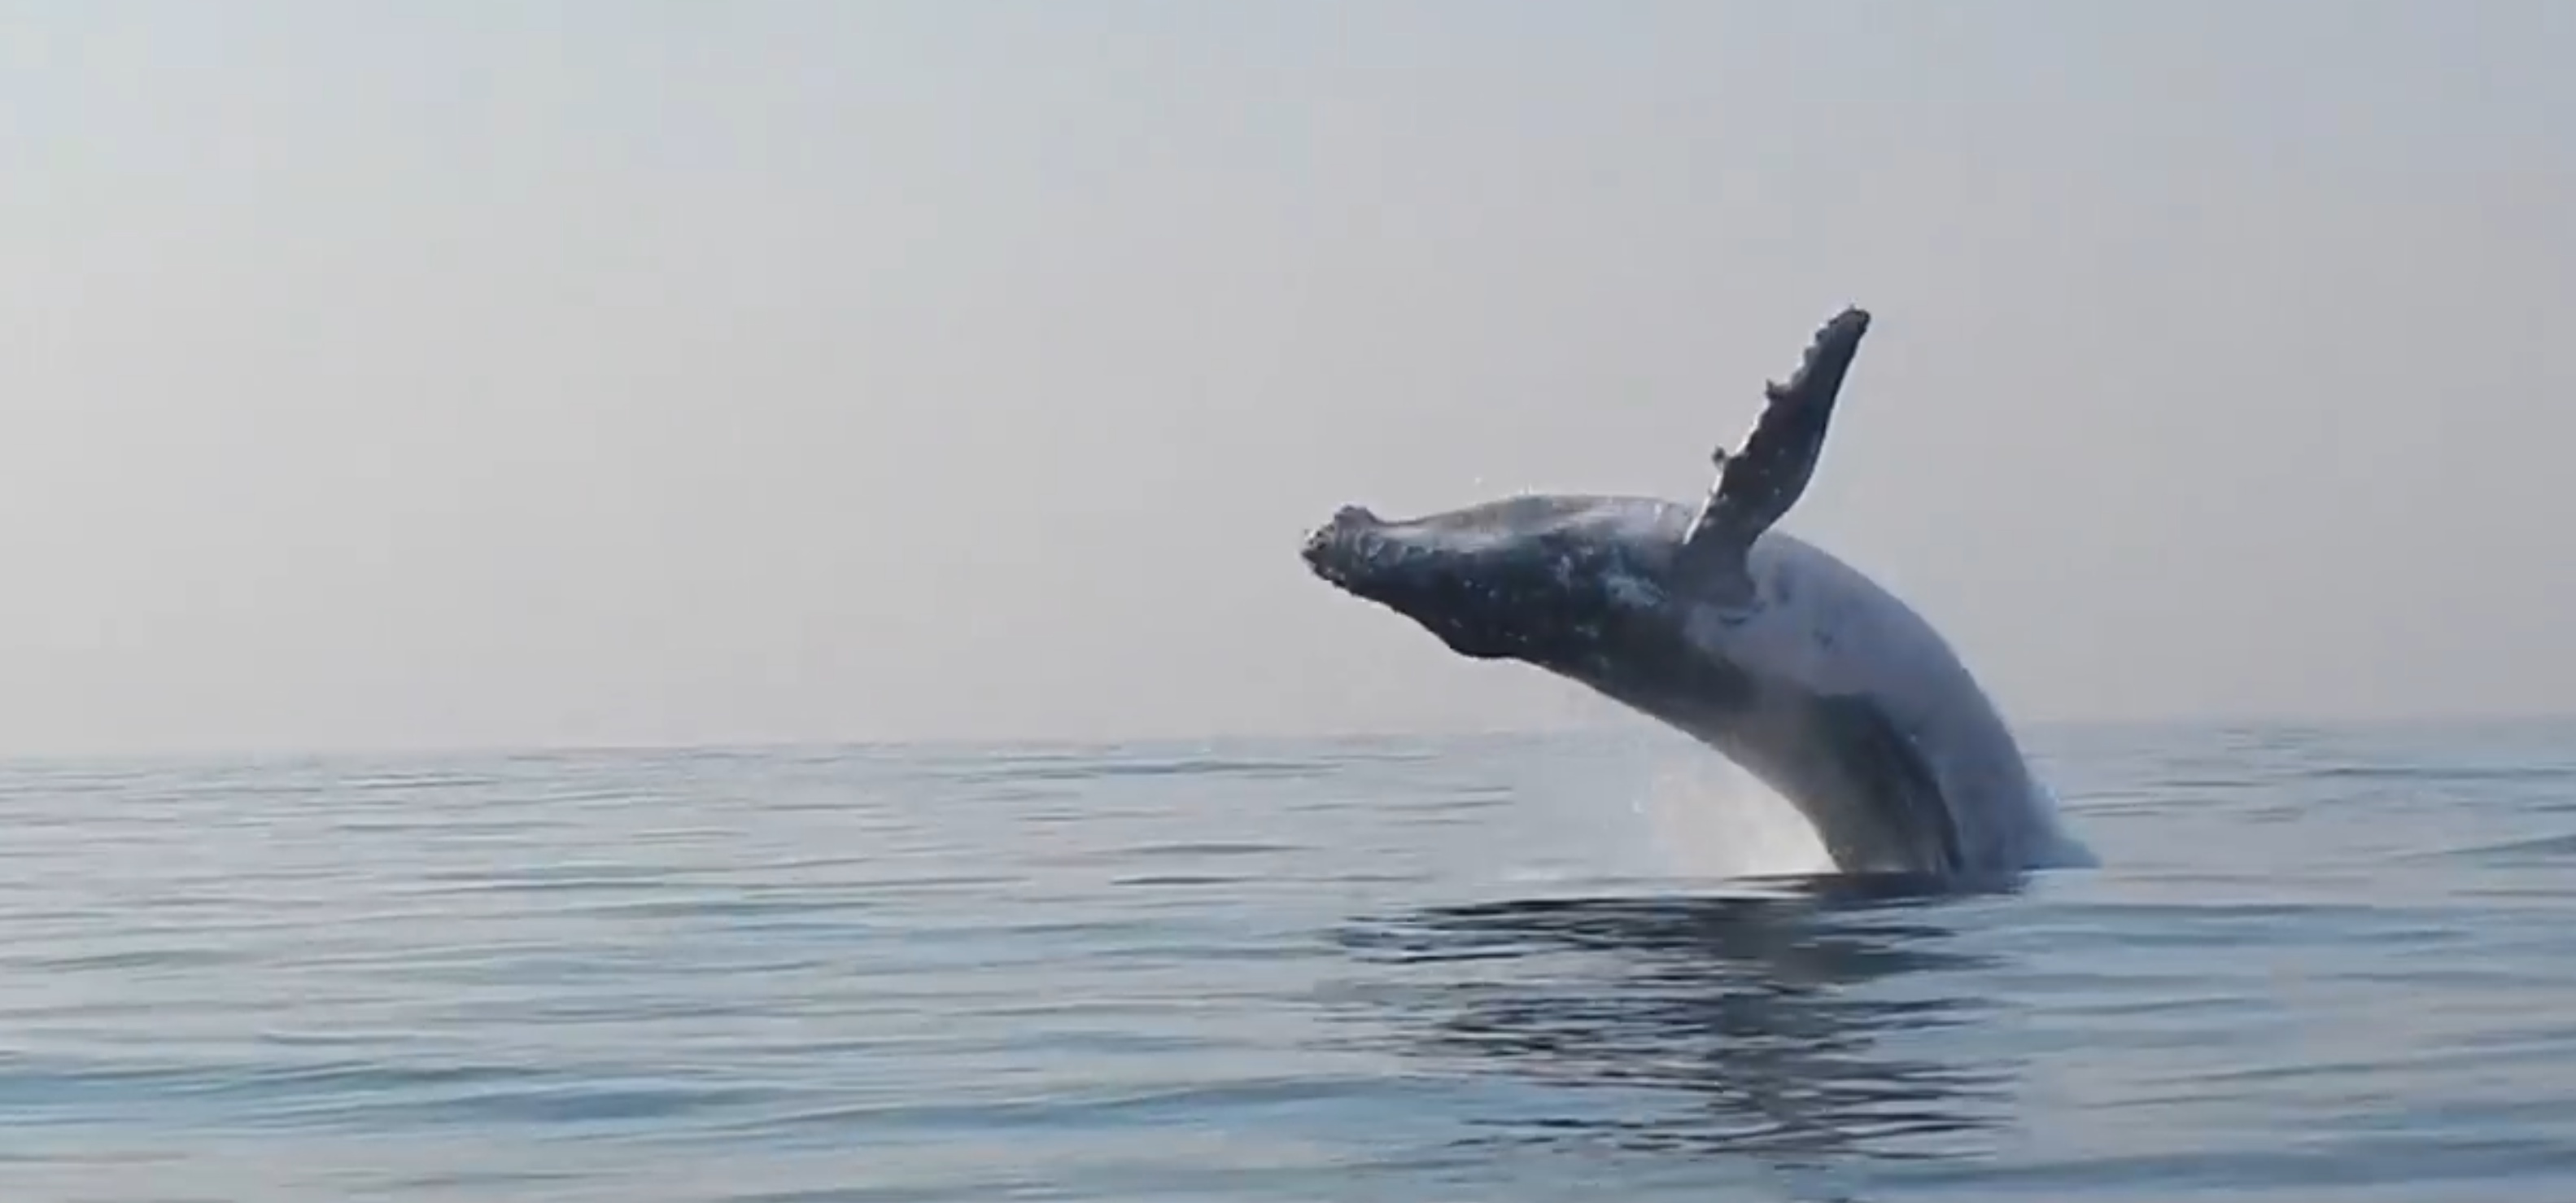humpback: (1288, 500, 2063, 873)
